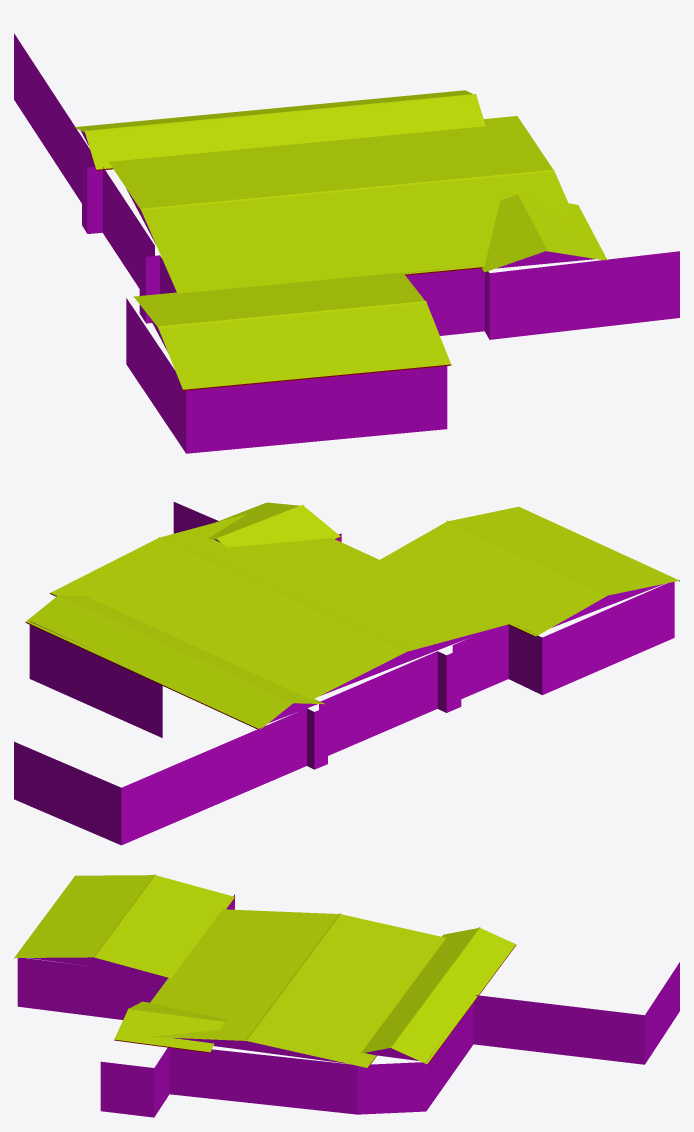
The model's file is sag_9.glb.
3 views of the same model, one above another, from view 1: azimuth 30°, elevation 25°; view 2: azimuth 150°, elevation 25°; view 3: azimuth 270°, elevation 25° (orthographic). The views are drawn at different scales.
Parts seen in each view (by area): view 1: sag_9; view 2: sag_9; view 3: sag_9.
Boxes of the visible parts, x1,y1,x2,y2 form: sag_9: [14, 33, 679, 453]; sag_9: [14, 502, 679, 845]; sag_9: [14, 874, 679, 1117].
Size of the model in its own units: 57.35 by 8.49 by 83.73.
